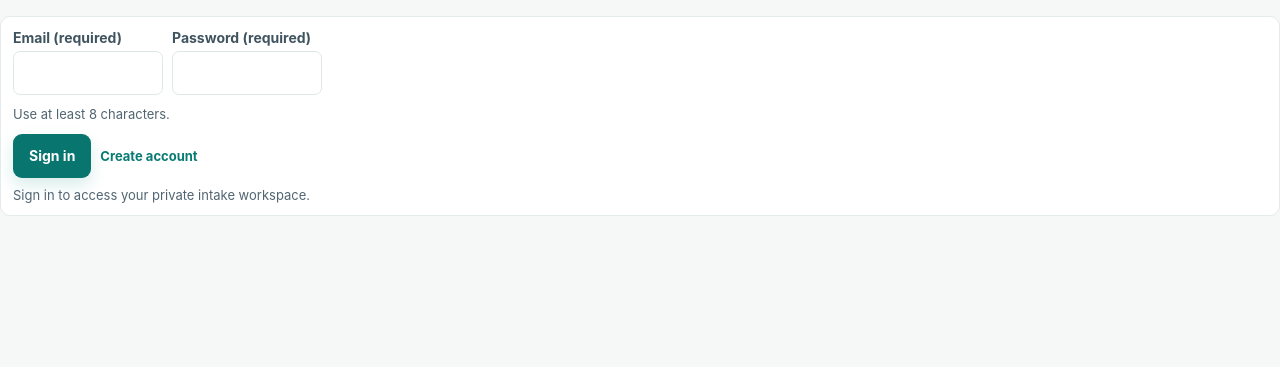
it: Assessment interactions › validates sign-in fields and retains credentials when authentication fails
Click the button "Sign in": point(52, 156) [13, 134, 91, 178]
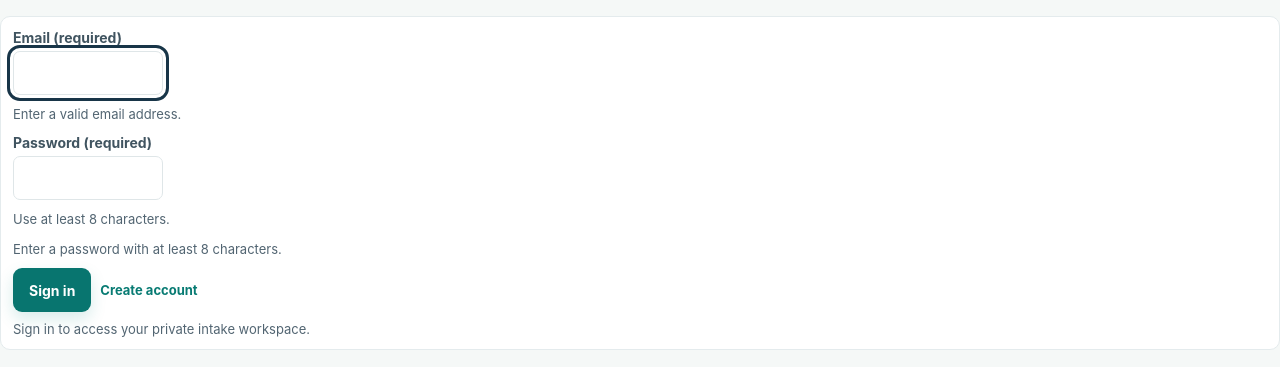
In the field labelled "Email (required)": point(88, 73) [13, 51, 163, 95], type "sample@example.invalid"
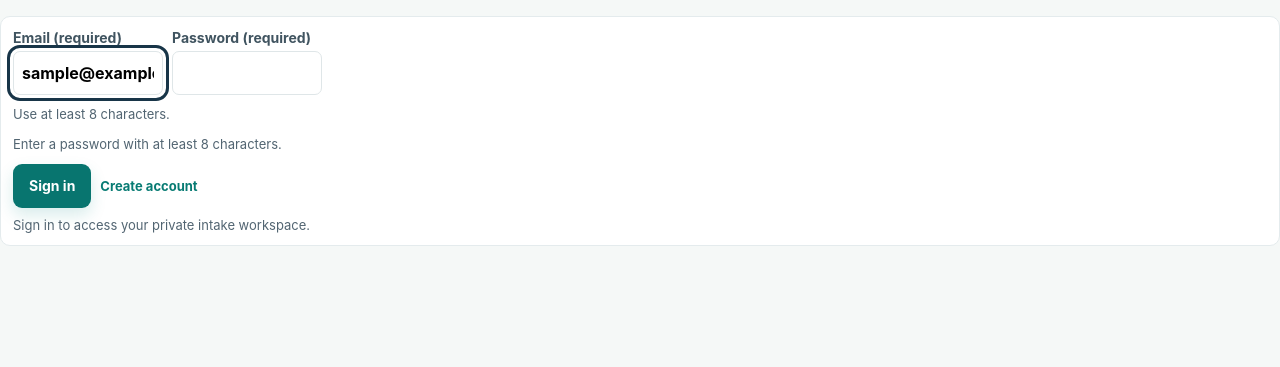
In the password field labelled "Password (required)": point(247, 73) [172, 51, 322, 95], type "sample-password"
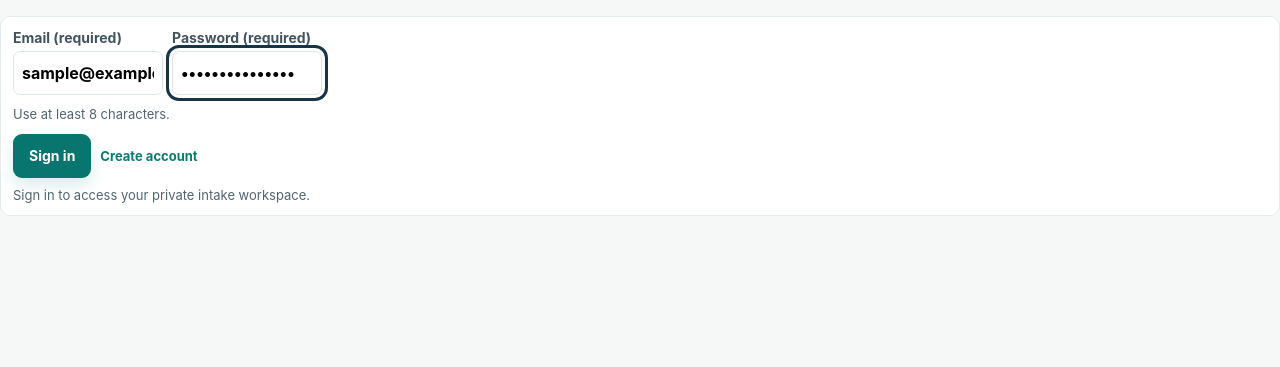
Click the button "Sign in": point(52, 156) [13, 134, 91, 178]
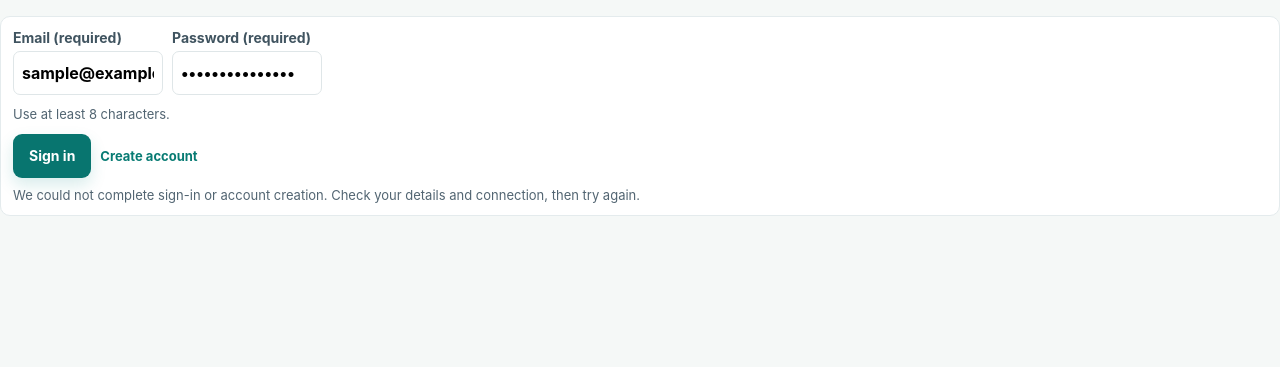
Expected: the text "We could not complete sign-in or account creation. Check your details and connection, then try again." is shown, [13, 187, 640, 203]
